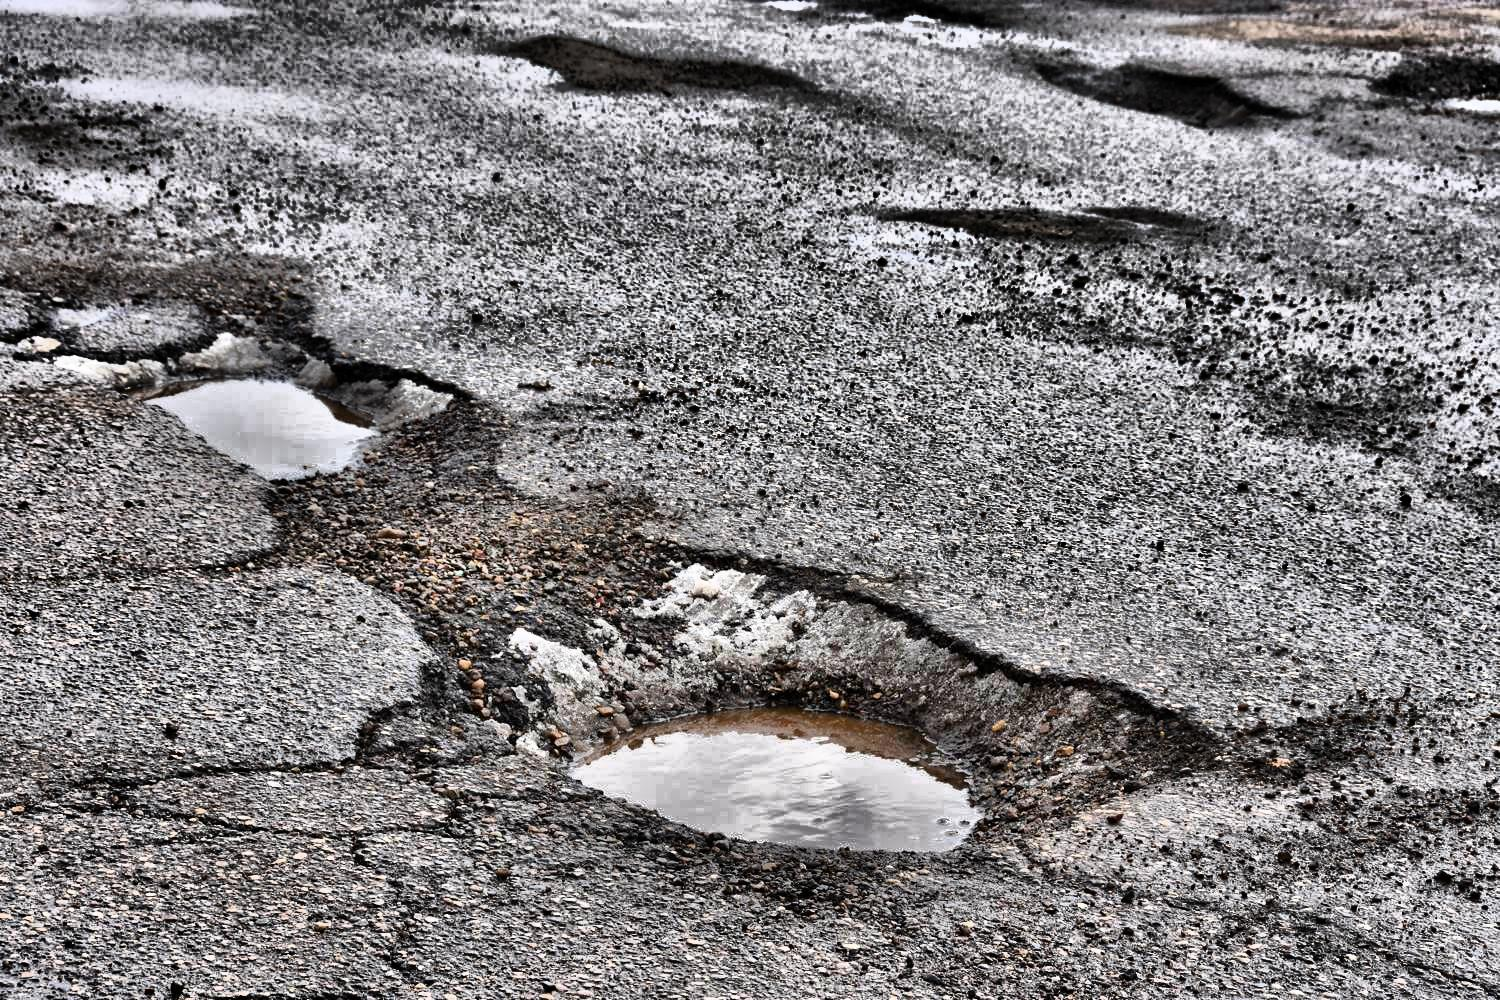pothole: (496, 634, 1080, 890), (132, 364, 424, 490), (1032, 57, 1296, 143), (1379, 45, 1500, 122)
